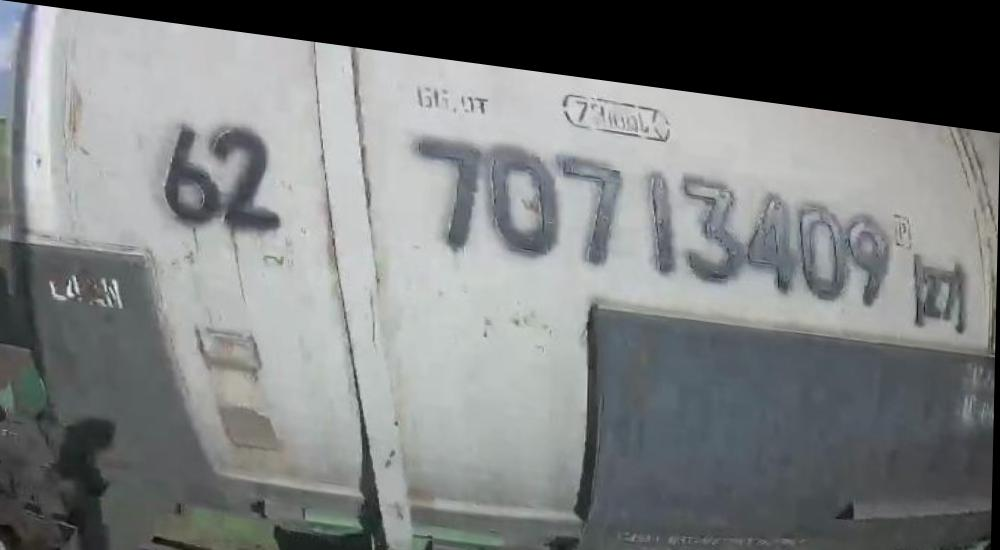Wagon-number: (411, 116, 895, 289)
